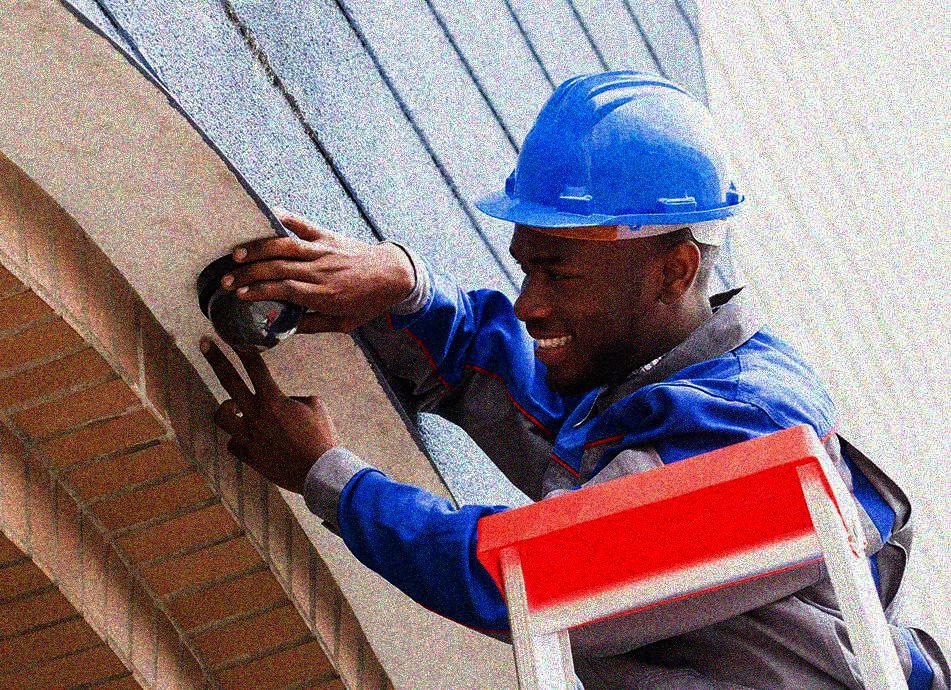helmet: (474, 68, 745, 393)
